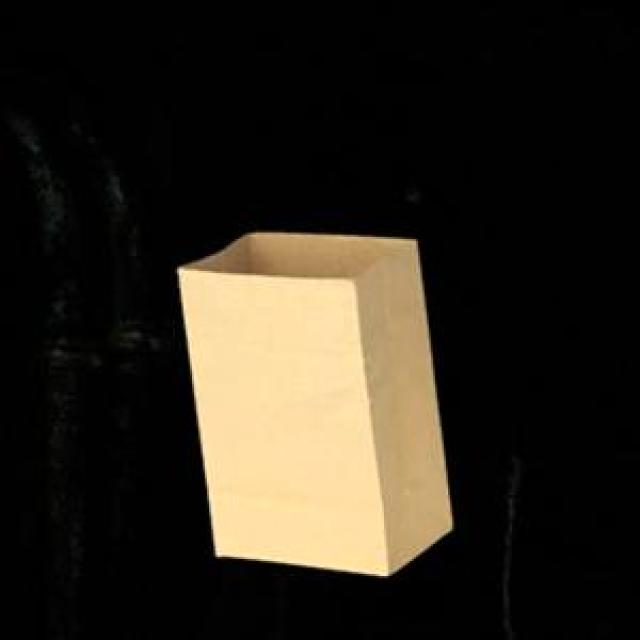Paper_Bag: (176, 229, 449, 573)
